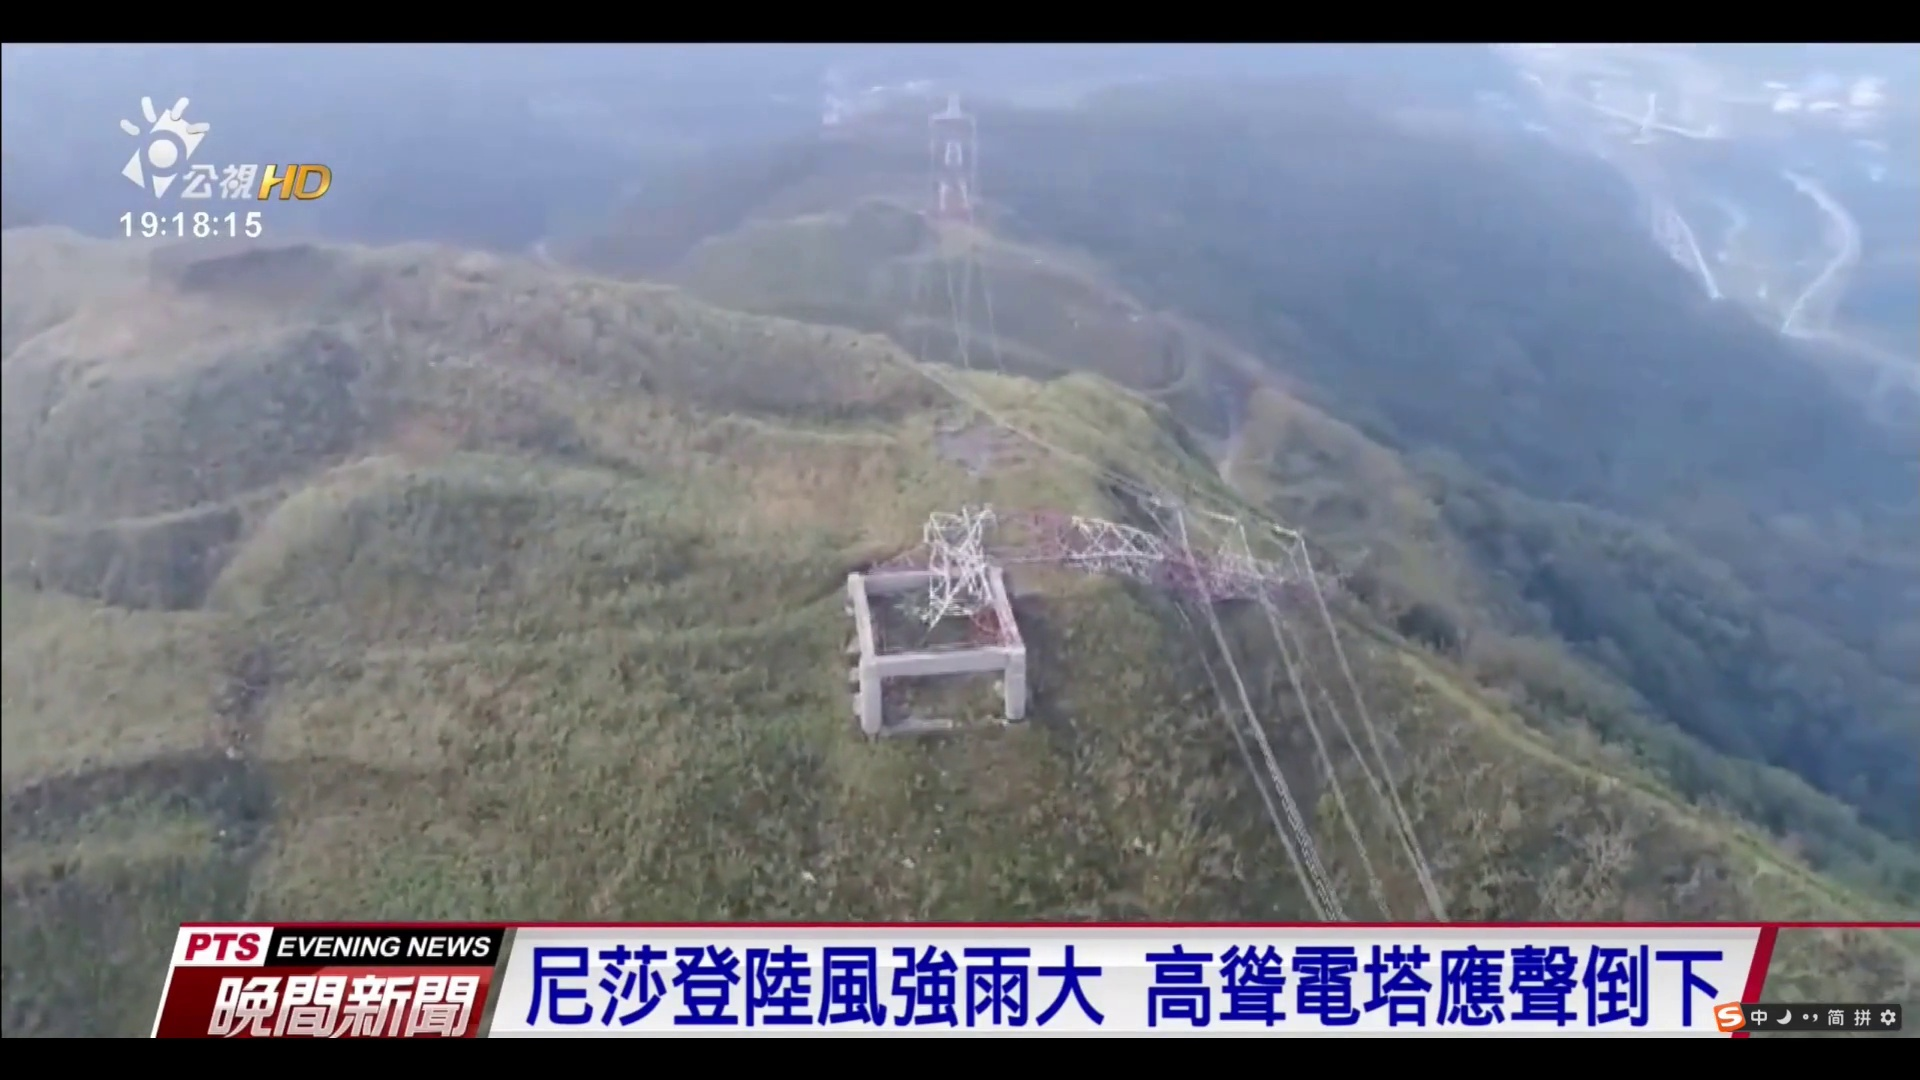tower_down: (899, 487, 1329, 638)
